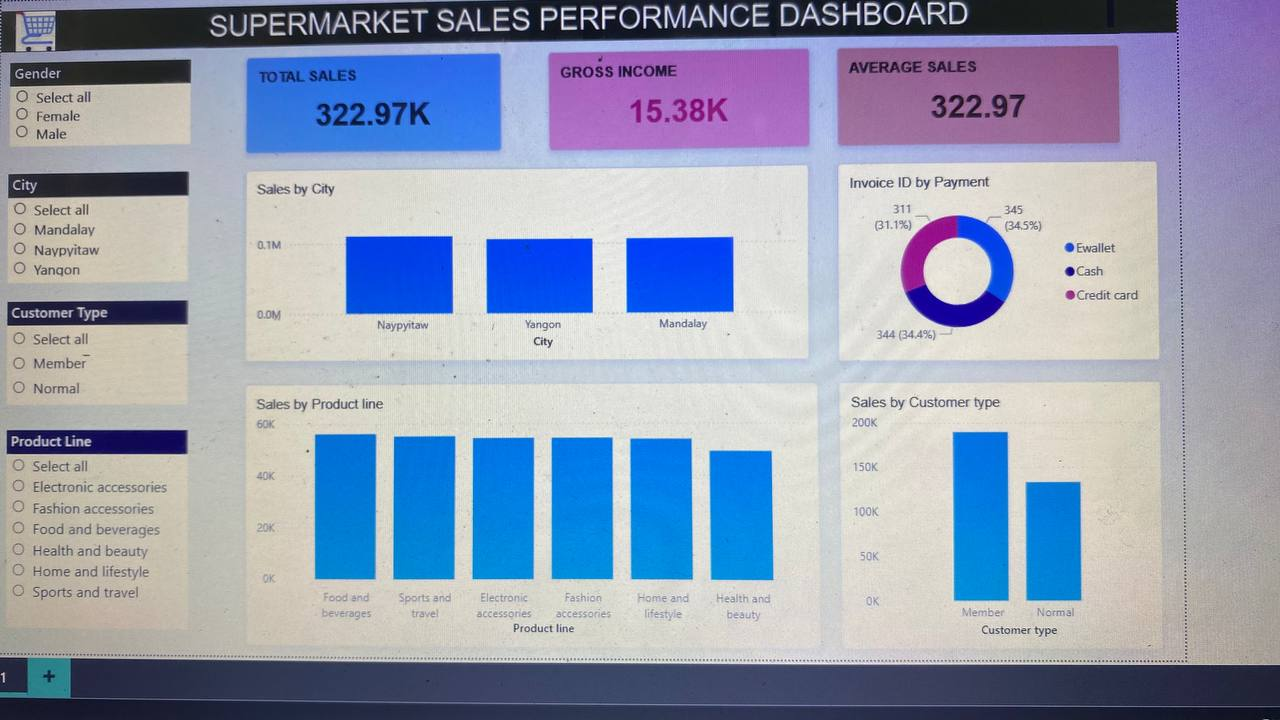

The dashboard page shown, as its layout file describes it:
{"tool":"powerbi","page":{"name":"Page 1","canvas":[1280,720],"ordinal":0},"visuals":[{"type":"card","title":"TOTAL SALES","fields":{"Values":["Sum(SuperMarket Analysis.Sales)"]},"box":[278.6,68.6,279.9,105.7],"z":0},{"type":"card","title":"GROSS INCOME","fields":{"Values":["Sum(SuperMarket Analysis.gross income)"]},"box":[609.3,68.6,279.9,105.7],"z":1000},{"type":"clusteredColumnChart","title":"Sales by City","fields":{"Category":["SuperMarket Analysis.City"],"Y":["Sum(SuperMarket Analysis.Sales)"]},"box":[278.6,192.1,610.6,208.6],"z":2000},{"type":"clusteredColumnChart","title":"Sales by Product line","fields":{"Y":["Sum(SuperMarket Analysis.Sales)"],"Category":["SuperMarket Analysis.Product line"]},"box":[278.6,425.4,618.9,282.7],"z":3000},{"type":"donutChart","title":" Invoice ID by Payment","fields":{"Category":["SuperMarket Analysis.Payment"],"Y":["CountNonNull(SuperMarket Analysis.Invoice ID)"]},"box":[919.4,192.1,337.6,211.3],"z":4000},{"type":"clusteredColumnChart","title":" Sales by Customer type","fields":{"Category":["SuperMarket Analysis.Customer type"],"Y":["Sum(SuperMarket Analysis.Sales)"]},"box":[919.4,425.4,337.6,282.7],"z":5000},{"type":"listSlicer","fields":{"Values":["SuperMarket Analysis.Gender"]},"box":[11,68.6,204.5,93.3],"z":6000},{"type":"listSlicer","fields":{"Values":["SuperMarket Analysis.City"]},"box":[9.6,192.1,204.5,120.8],"z":7000},{"type":"listSlicer","title":"Customer Type","fields":{"Values":["SuperMarket Analysis.Customer type"]},"box":[9.6,333.4,204.5,113.9],"z":8000},{"type":"listSlicer","title":"Product Line","fields":{"Values":["SuperMarket Analysis.Product line"]},"box":[9.6,474.8,204.5,216.8],"z":9000},{"type":"shape","title":"SUPERMARKET SALES DASHBOARD","box":[13.7,11,1266.6,45.3],"z":10000},{"type":"image","box":[0,11,79.6,45.3],"z":11000},{"type":"textbox","box":[230.5,11,988,45.3],"z":12000},{"type":"card","title":"AVERAGE SALES","fields":{"Values":["SuperMarket Analysis.Average Sales"]},"box":[919.4,68.6,299.1,105.7],"z":13000}]}

Visuals, with their boxes on the page's 1280x720 design canvas (x1, y1, x2, y2). These are canvas units, not pixel positions in the 1280x720 screenshot, which may show the page scaled, cropped or inside an application window:
"TOTAL SALES" card: [279,69,558,174]
"GROSS INCOME" card: [609,69,889,174]
"Sales by City" clusteredColumnChart: [279,192,889,401]
"Sales by Product line" clusteredColumnChart: [279,425,898,708]
" Invoice ID by Payment" donutChart: [919,192,1257,403]
" Sales by Customer type" clusteredColumnChart: [919,425,1257,708]
listSlicer - SuperMarket Analysis.Gender: [11,69,216,162]
listSlicer - SuperMarket Analysis.City: [10,192,214,313]
"Customer Type" listSlicer: [10,333,214,447]
"Product Line" listSlicer: [10,475,214,692]
"SUPERMARKET SALES DASHBOARD" shape: [14,11,1280,56]
image: [0,11,80,56]
textbox: [230,11,1218,56]
"AVERAGE SALES" card: [919,69,1218,174]
